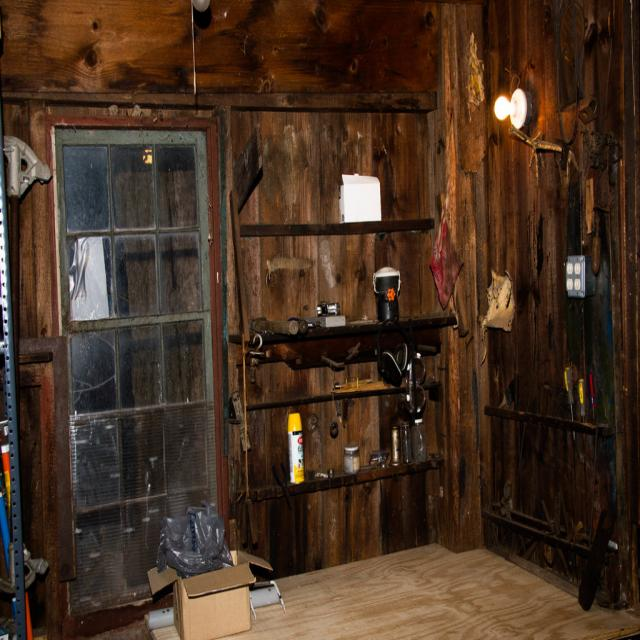Box: (146, 549, 272, 639), (340, 174, 380, 222)
